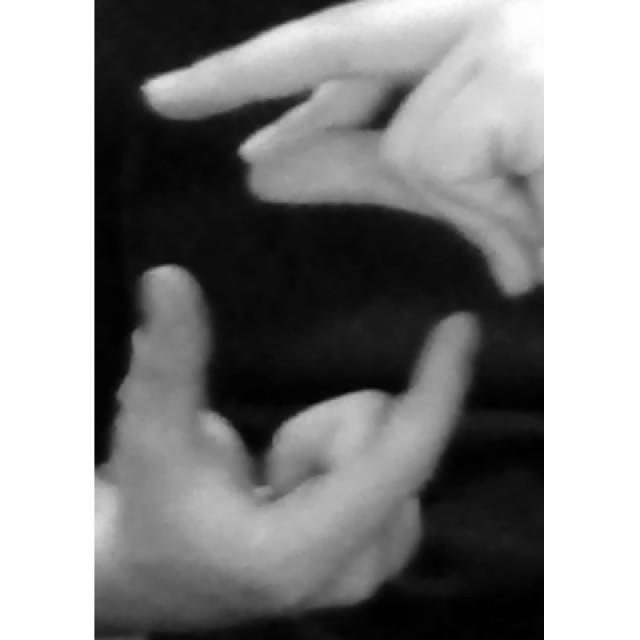U--: (97, 0, 544, 633)
